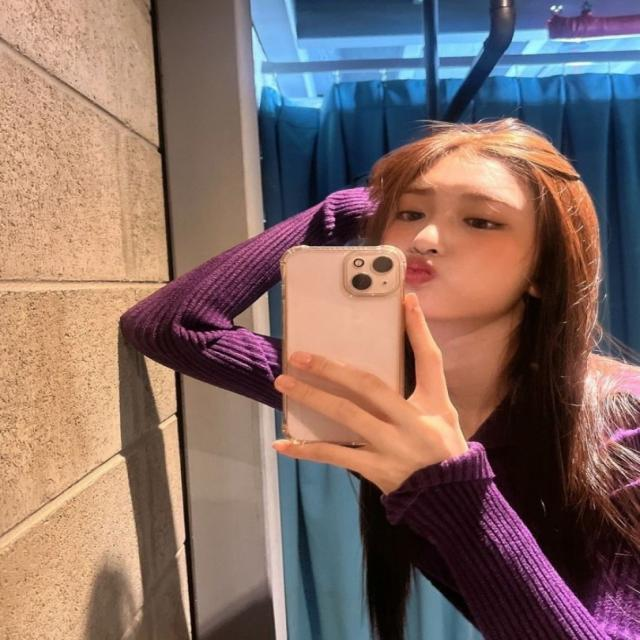phone: (279, 245, 406, 443)
